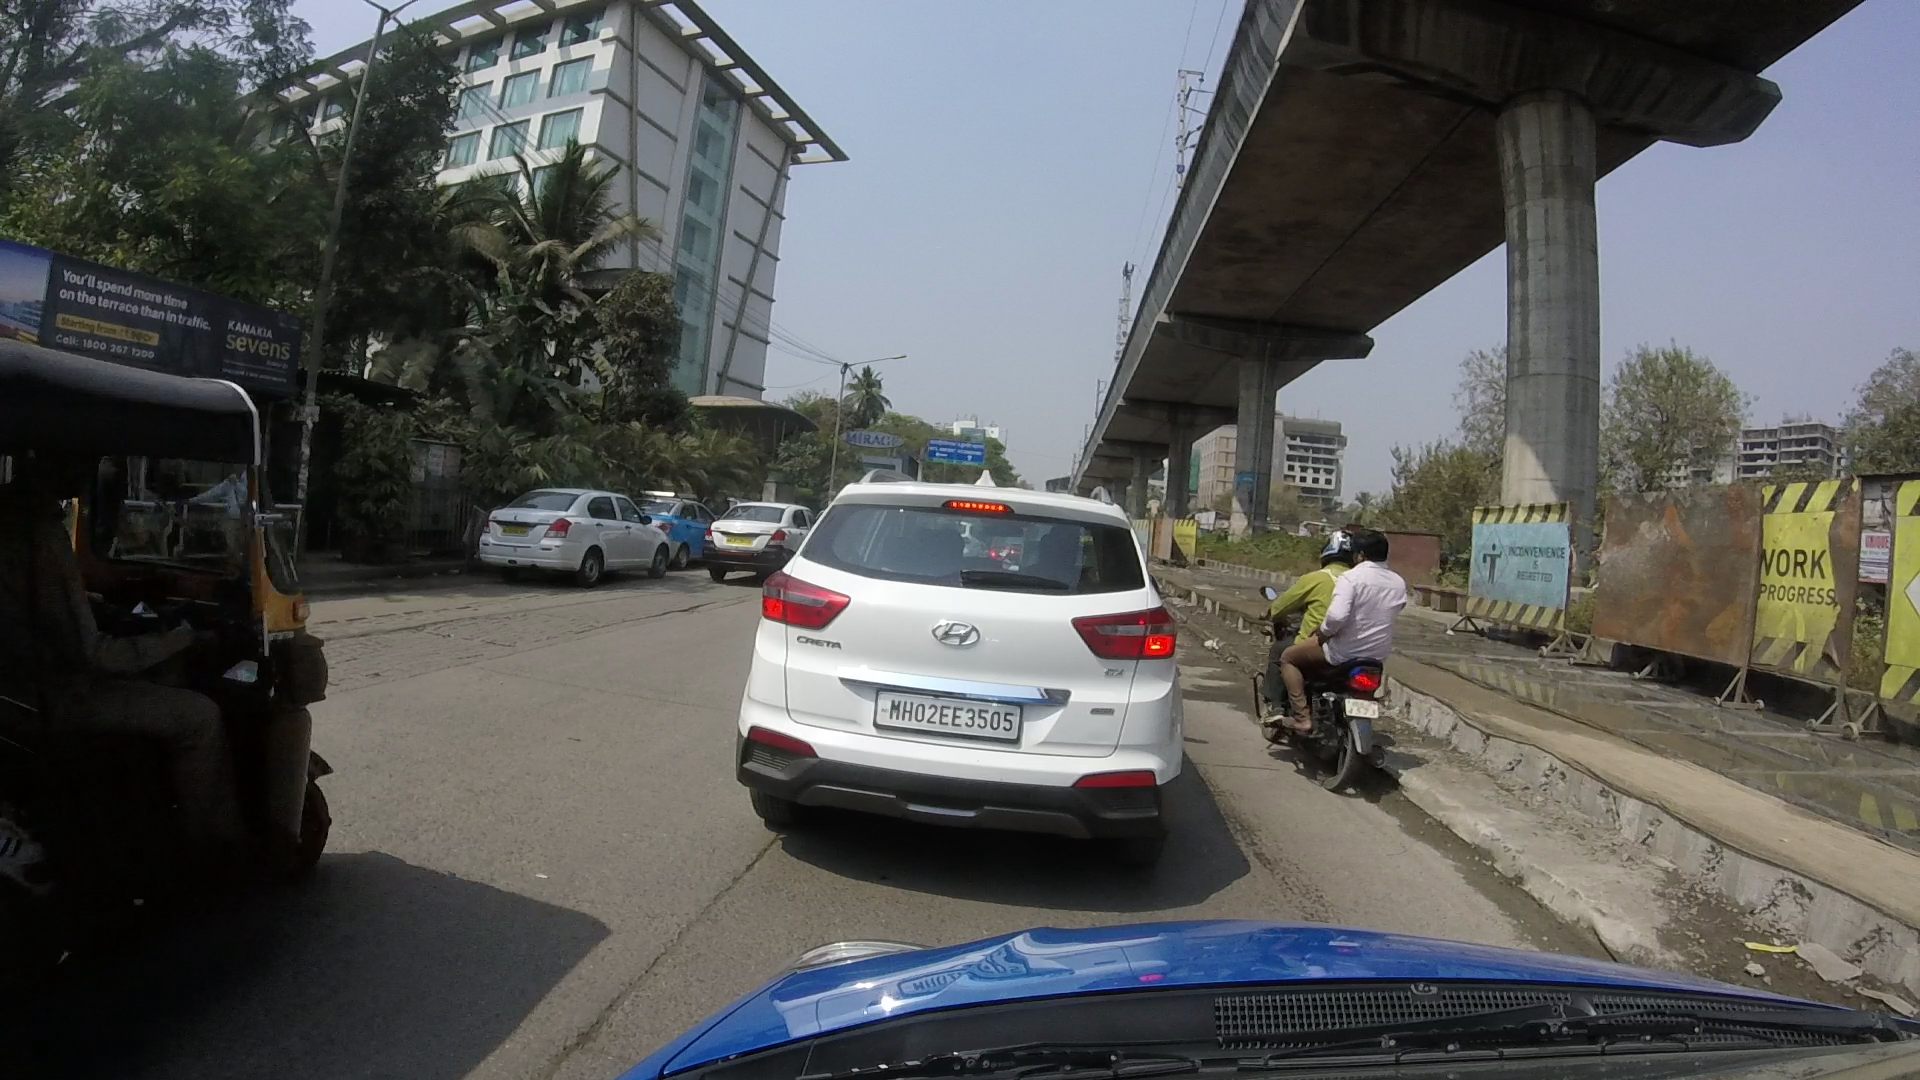bike/scooter: (1233, 513, 1436, 793)
car: (731, 475, 1189, 891), (468, 460, 680, 595)
rickshaw: (1, 338, 327, 1031)
